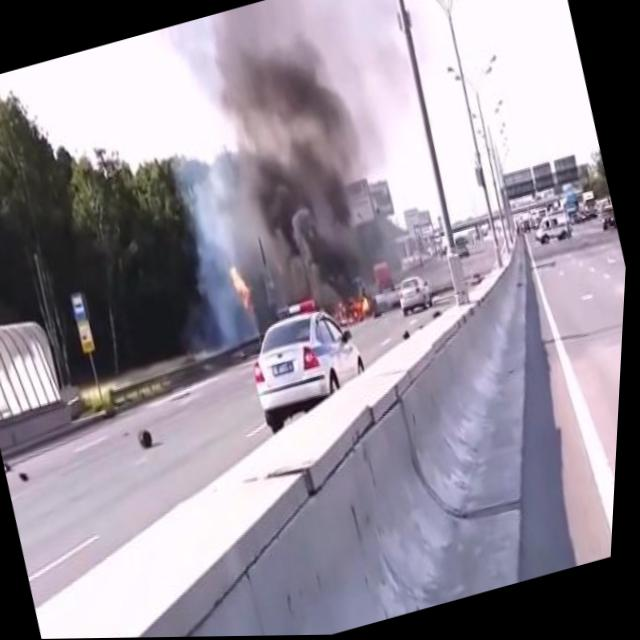fire: (224, 256, 261, 313), (335, 289, 380, 326)
